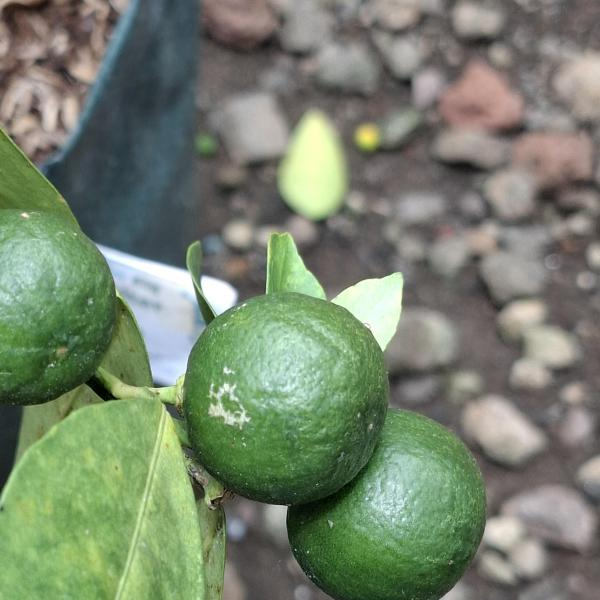Scab: (178, 275, 396, 517), (0, 200, 135, 409)
